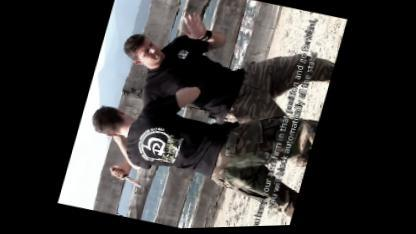knife: (103, 160, 148, 192)
